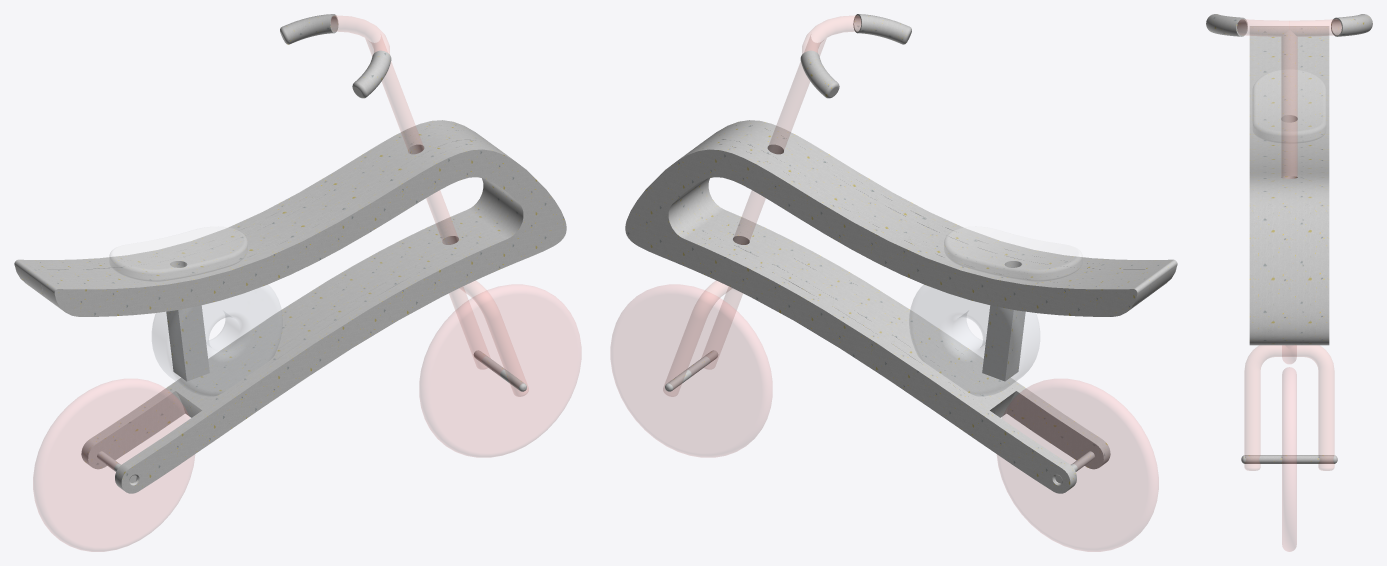
File: bike2.glb
3 renders of one model, left to right at view 1: azimuth 30°, elevation 25°; view 2: azimuth 150°, elevation 25°; view 3: azimuth 270°, elevation 25°, orthographic.
Parts seen in each view (by area): view 1: plank 1, front wheel, back wheel, plank 6, circle (1) (1), plank 5, plank 2, handlebar (1), Seat, block 3, plank 4 mid, plank 3 mid (+8 smaller); view 2: plank 6, front wheel, back wheel, plank 1, circle (1) (1), plank 2, plank 5, handlebar (1), Seat, block 3, plank 3 mid, plank 4 mid (+8 smaller); view 3: handlebar (1), Seat, plank 5, plank 1, plank 2, plank 6, front wheel, Body1:3, plank 4 Fr, plank 3 bck, plank 4 bck, Body1:1 (+6 smaller).
Part boxes in pixels (bbox=[...]): plank 1: bbox=[48, 145, 566, 493]; front wheel: bbox=[419, 284, 581, 457]; back wheel: bbox=[33, 379, 194, 551]; plank 6: bbox=[14, 120, 489, 469]; circle (1) (1): bbox=[152, 285, 282, 396]; plank 5: bbox=[21, 125, 496, 417]; plank 2: bbox=[41, 139, 516, 412]; handlebar (1): bbox=[331, 15, 528, 396]; Seat: bbox=[109, 227, 247, 281]; block 3: bbox=[161, 257, 209, 381]; plank 4 mid: bbox=[182, 241, 438, 417]; plank 3 mid: bbox=[189, 246, 445, 414]; plank 6: bbox=[625, 145, 1143, 493]; front wheel: bbox=[610, 284, 772, 457]; back wheel: bbox=[997, 379, 1158, 551]; plank 1: bbox=[702, 120, 1177, 469]; circle (1) (1): bbox=[909, 285, 1039, 396]; plank 2: bbox=[695, 125, 1170, 417]; plank 5: bbox=[675, 139, 1150, 412]; handlebar (1): bbox=[663, 15, 860, 396]; Seat: bbox=[944, 226, 1082, 281]; block 3: bbox=[982, 257, 1030, 381]; plank 3 mid: bbox=[753, 241, 1009, 417]; plank 4 mid: bbox=[746, 246, 1002, 414]; handlebar (1): bbox=[1237, 19, 1341, 470]; Seat: bbox=[1253, 70, 1325, 142]; plank 5: bbox=[1302, 26, 1315, 345]; plank 1: bbox=[1249, 26, 1262, 345]; plank 2: bbox=[1263, 26, 1276, 345]; plank 6: bbox=[1316, 26, 1329, 345]; front wheel: bbox=[1282, 367, 1296, 551]; Body1:3: bbox=[1276, 180, 1289, 345]; plank 4 Fr: bbox=[1289, 180, 1302, 345]; plank 3 bck: bbox=[1276, 26, 1289, 112]; plank 4 bck: bbox=[1289, 26, 1302, 112]; Body1:1: bbox=[1241, 455, 1337, 463].
Bounding box in the file's own units: 0.8493 × 0.6855 × 0.2256.
5 materials, 3 textured.
